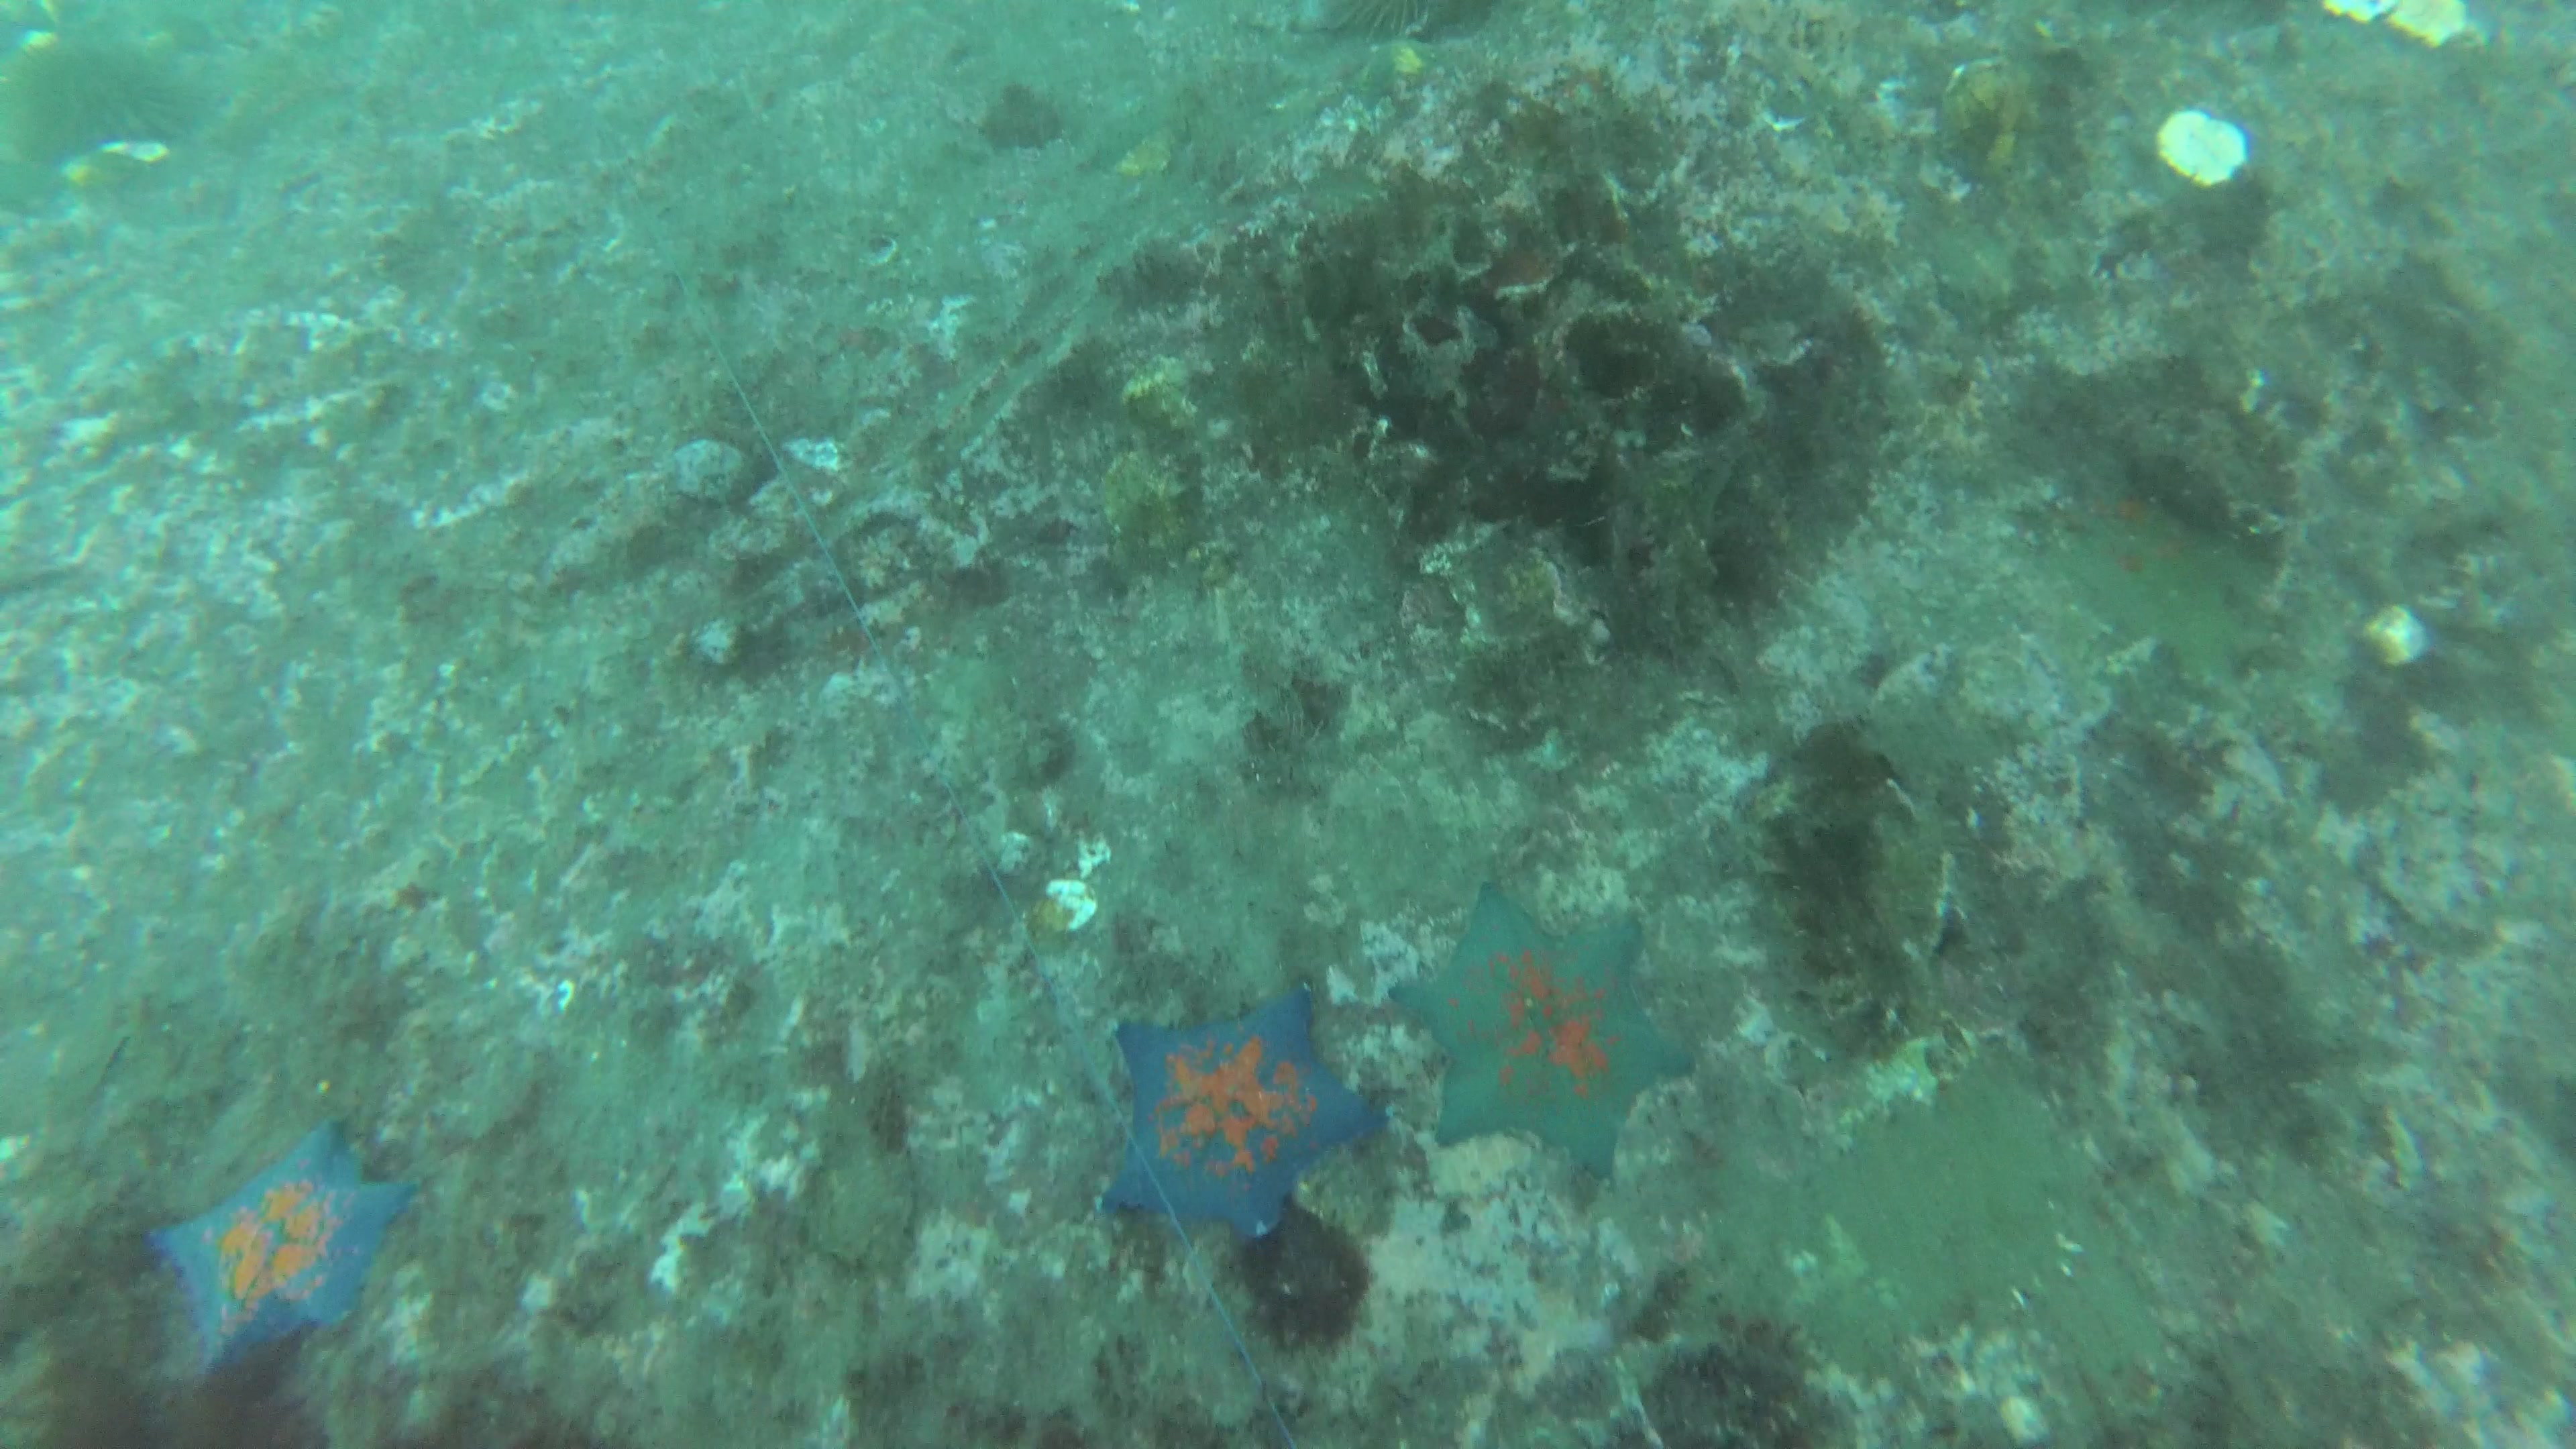echinus: (0, 34, 166, 157), (1244, 1212, 1380, 1343)
scallop: (1936, 53, 2056, 196)
starfish: (1398, 883, 1702, 1169), (142, 1118, 419, 1375), (1111, 1021, 1380, 1212)
